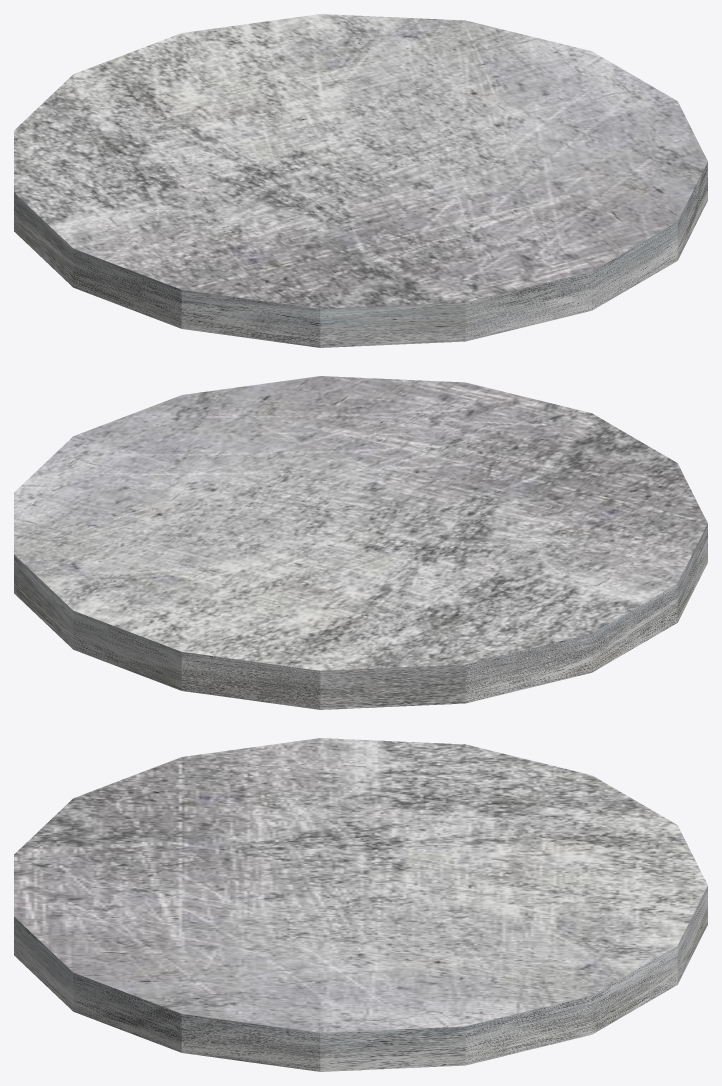
Rendered from planter.fbx.
3 views of the same model, one above another, from view 1: azimuth 30°, elevation 25°; view 2: azimuth 150°, elevation 25°; view 3: azimuth 270°, elevation 25° (orthographic).
Visible parts, largest first — view 1: Cylinder.002; view 2: Cylinder.002; view 3: Cylinder.002.
Part boxes in pixels (x1=…): Cylinder.002: x1=14, y1=14, x2=707, y2=347; Cylinder.002: x1=14, y1=376, x2=707, y2=709; Cylinder.002: x1=14, y1=738, x2=707, y2=1071.
Bounding box in the file's own units: 1292 × 79.86 × 1285.
1 material, 1 textured.
